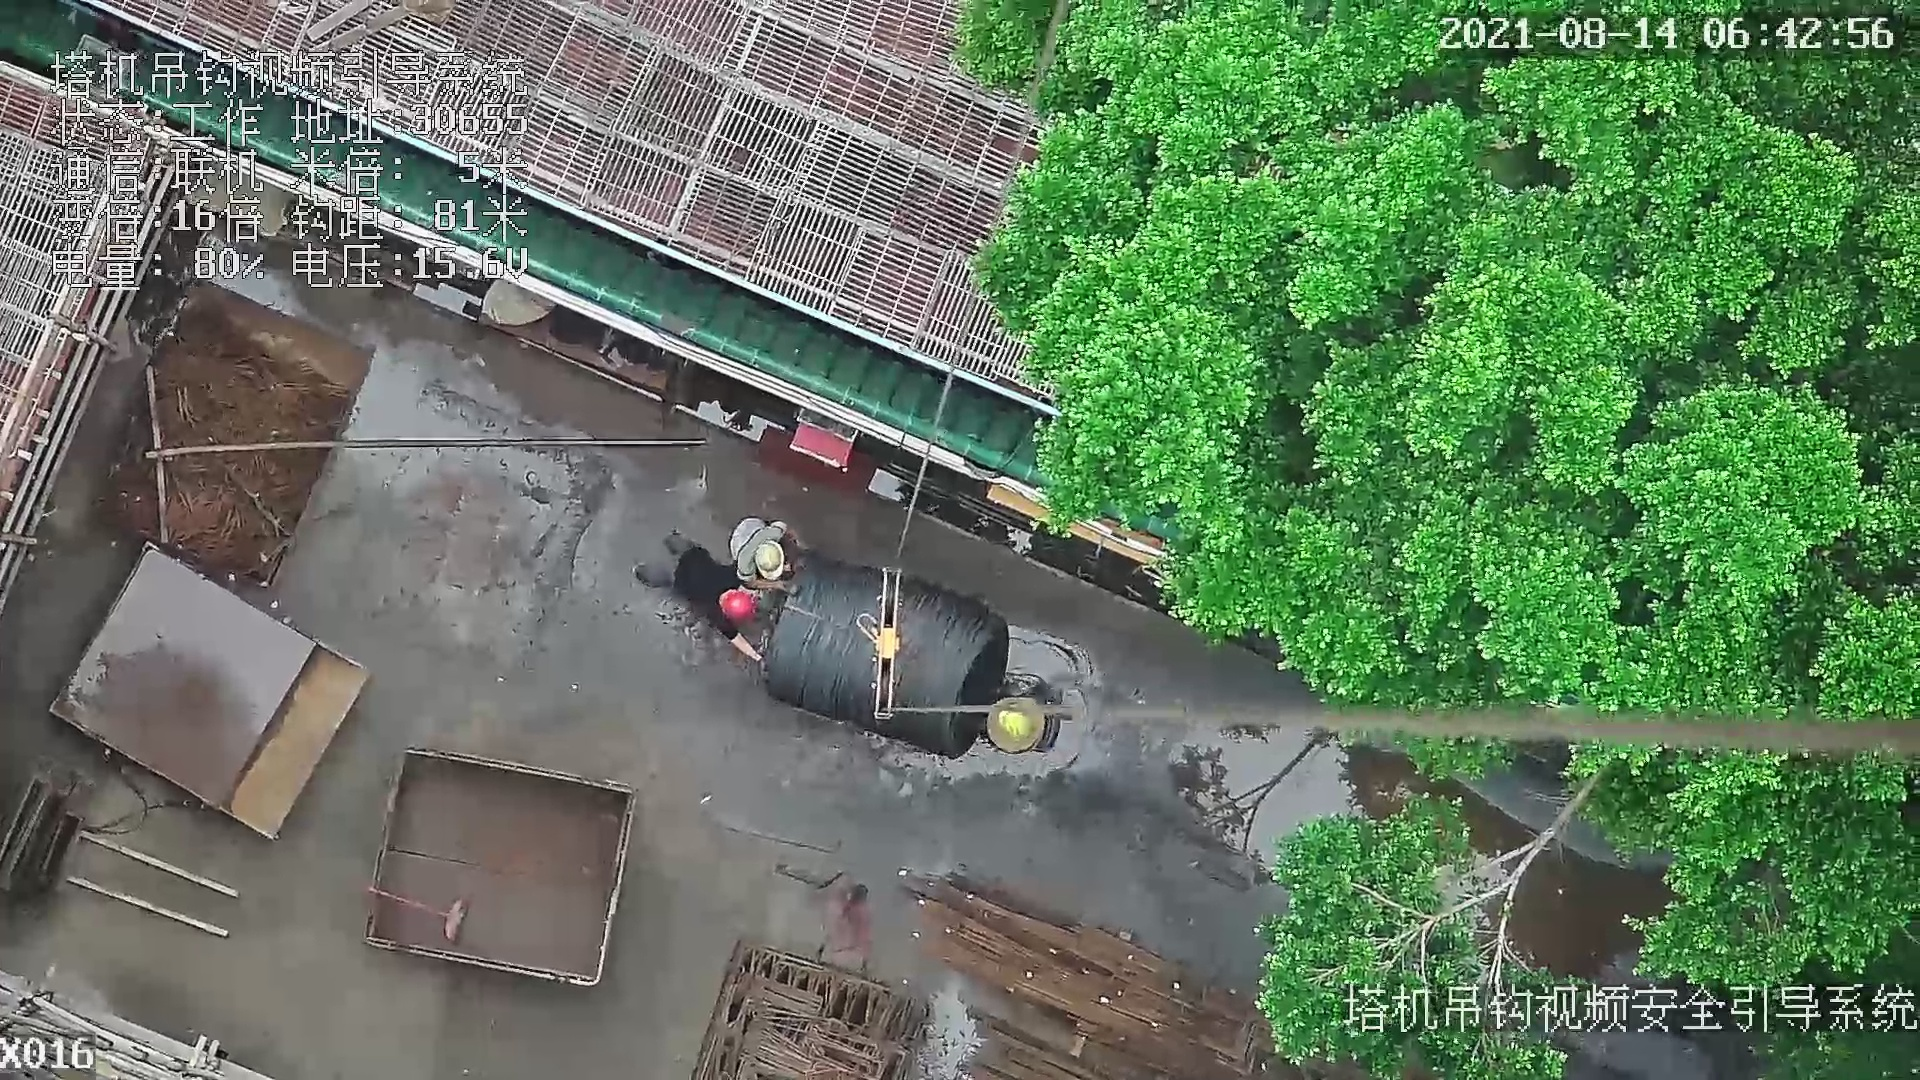helmet: (996, 704, 1038, 756), (717, 583, 760, 628), (754, 539, 791, 585)
hook: (856, 563, 905, 722)
person: (637, 528, 786, 662), (724, 513, 809, 594), (979, 680, 1059, 753)
